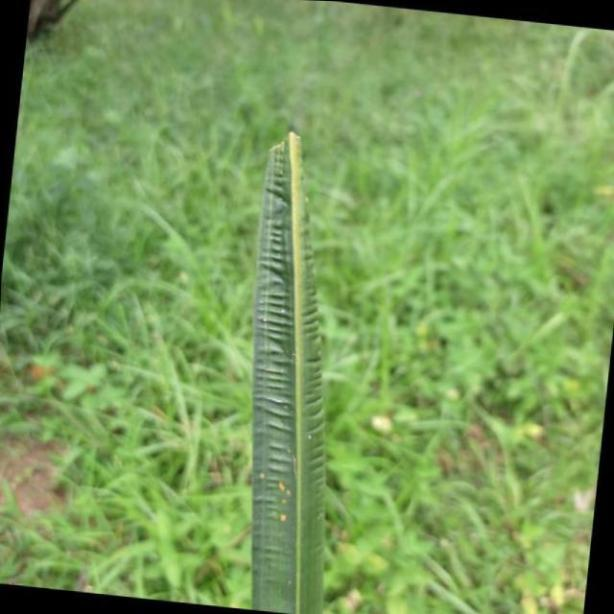Boron: (252, 121, 326, 614)
